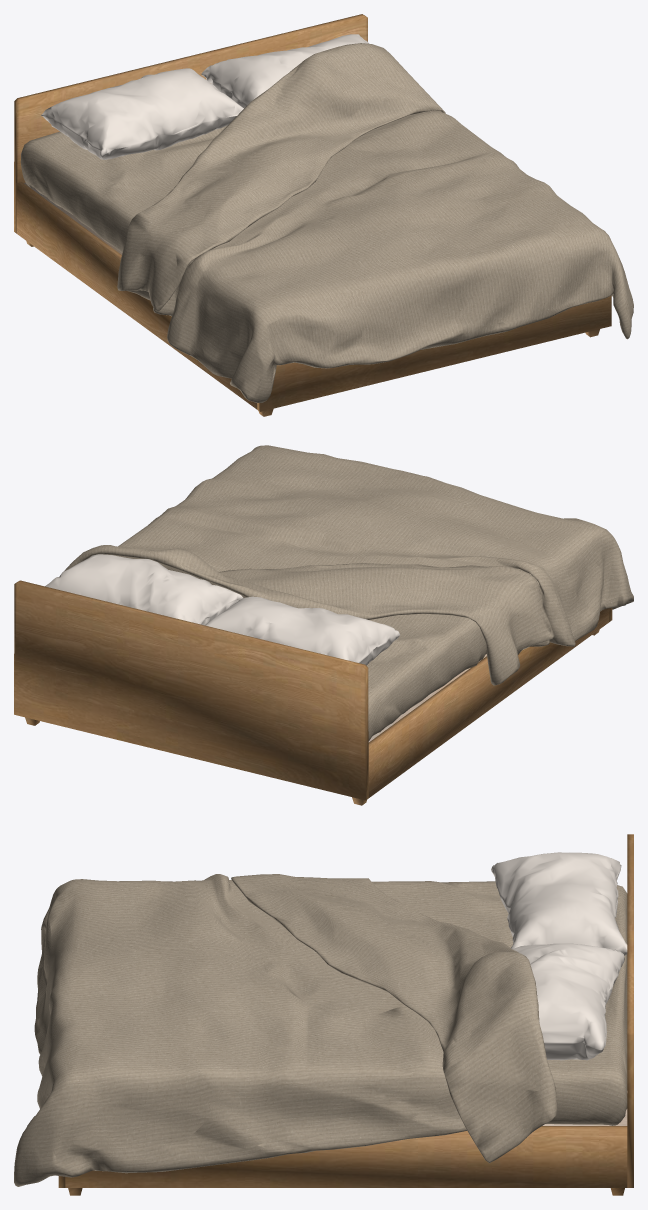
The model's file is cargo_bed_c.glb.
3 renders of one model, top to bottom at view 1: azimuth 30°, elevation 25°; view 2: azimuth 150°, elevation 25°; view 3: azimuth 270°, elevation 25°, orthographic. The views are drawn at different scales.
Visible parts, largest first — view 1: KB3D_API_PropBed_C_Main; view 2: KB3D_API_PropBed_C_Main; view 3: KB3D_API_PropBed_C_Main.
Part boxes in pixels (x1=…): KB3D_API_PropBed_C_Main: x1=14, y1=14, x2=633, y2=416; KB3D_API_PropBed_C_Main: x1=14, y1=445, x2=633, y2=805; KB3D_API_PropBed_C_Main: x1=14, y1=834, x2=633, y2=1195.
Bounding box in the file's own units: 1.86 × 0.7224 × 2.15.
Materials: 4 (4 with a texture image).
